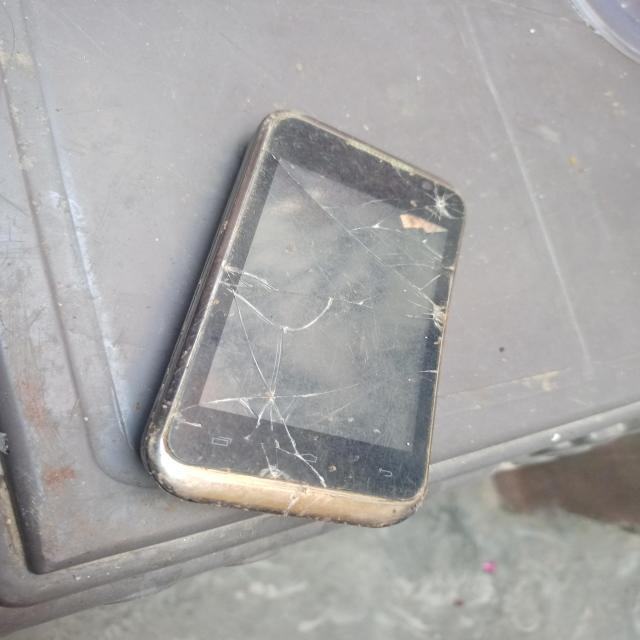phone: (122, 102, 478, 555)
